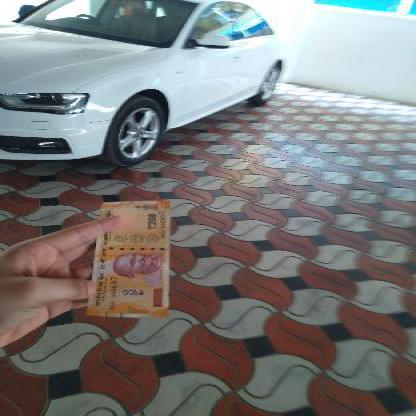New200Front: (90, 203, 166, 320)
